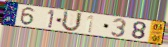1: (47, 9, 56, 30), (87, 15, 95, 34)
3: (111, 18, 128, 38)
6: (20, 7, 36, 27)
8: (132, 21, 147, 40)
U: (60, 10, 84, 33)
